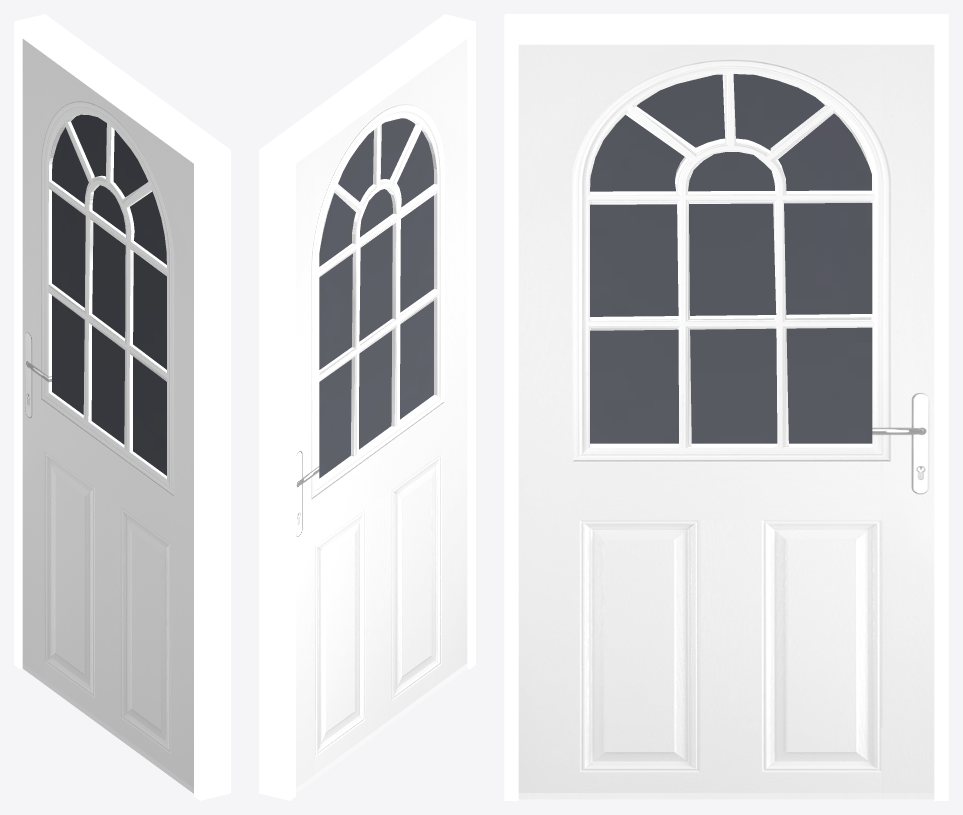
File: 11_lite_walkin.3cd8fe56.gltf
3 renders of one model, left to right at view 1: azimuth 30°, elevation 25°; view 2: azimuth 150°, elevation 25°; view 3: azimuth 270°, elevation 25°, orthographic. The views are drawn at different scales.
Visible parts, largest first — view 1: door, trims, Plane; view 2: door, trims, Plane; view 3: door, Plane, trims.
Boxes of the visible parts, x1,y1,x2,y2 form: door: (22,39,193,793); trims: (14,14,230,800); Plane: (52,114,166,475); door: (296,39,467,793); trims: (259,14,475,800); Plane: (319,118,433,478); door: (518,44,934,799); Plane: (590,74,872,443); trims: (504,14,948,800).
Bounding box in the file's own units: 0.302 × 6.01 × 3.14.
3 materials, 2 textured.
